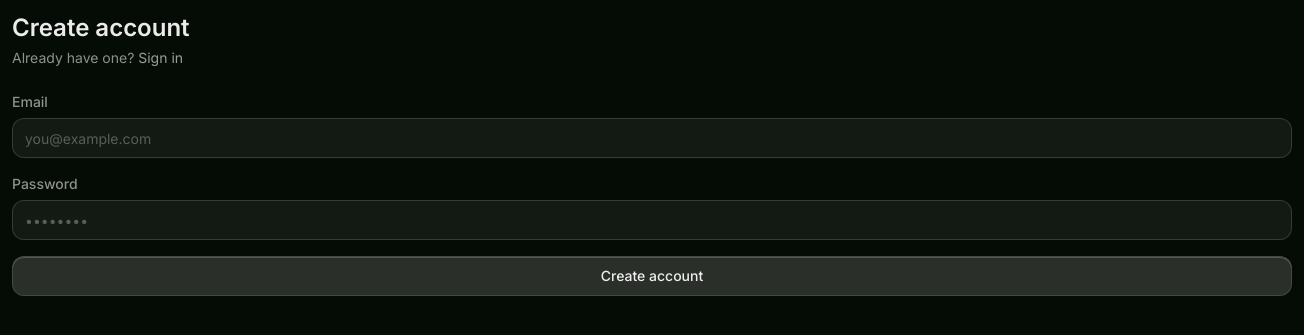
Test: SignupPage › shows a validation error for an invalid email
This screenshot has width=1304, height=335.
Type "not-an-email" into the field labelled "Email" at point(652, 138), box [12,118,1292,158]
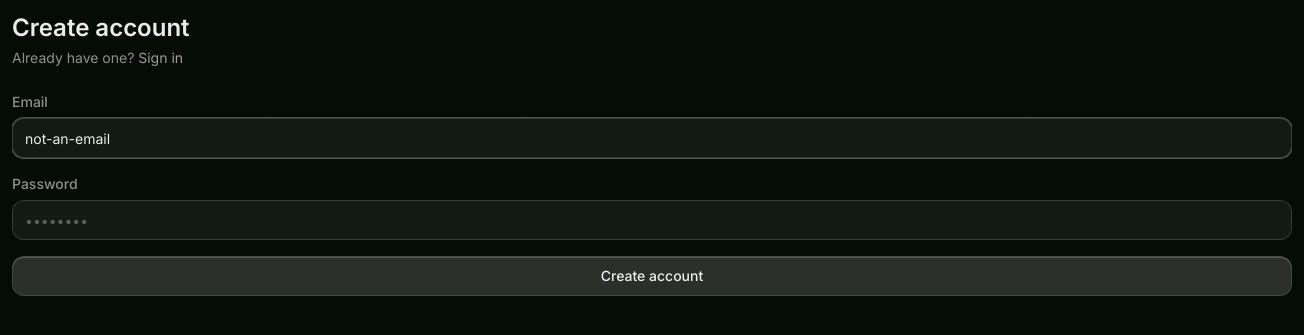
Type "password123" into the password field labelled "Password" at point(652, 220), box [12,200,1292,240]
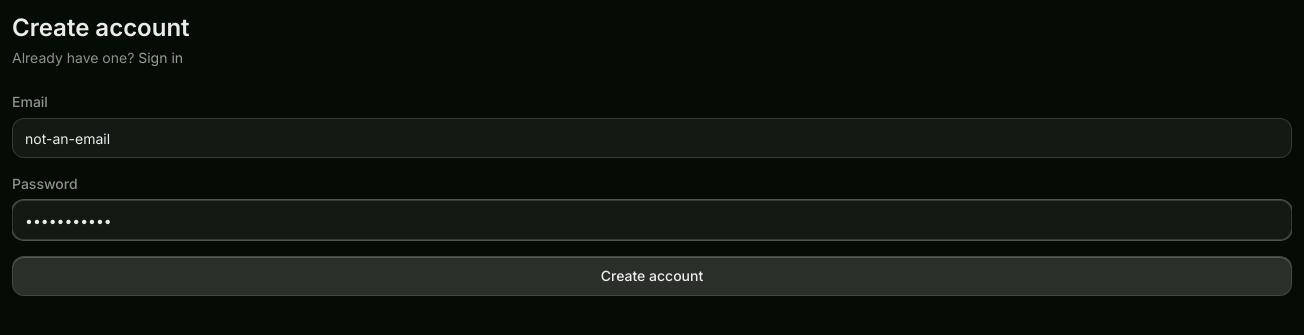
Click the button "Create account" at point(652, 276), box [12,256,1292,296]
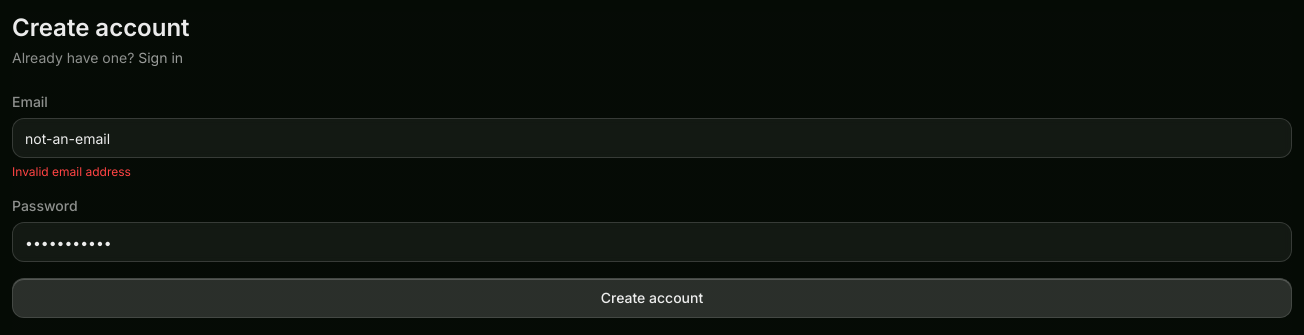
Now the text "Invalid email address" is shown, box [12,164,131,179]
